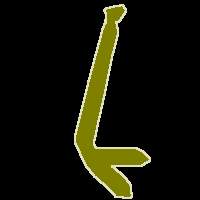tie: (75, 4, 150, 198)
